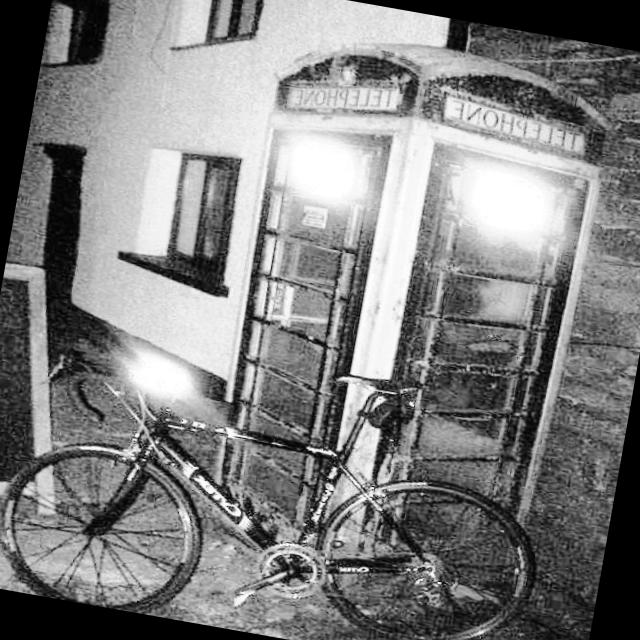Bicycle: (52, 371, 553, 640)
